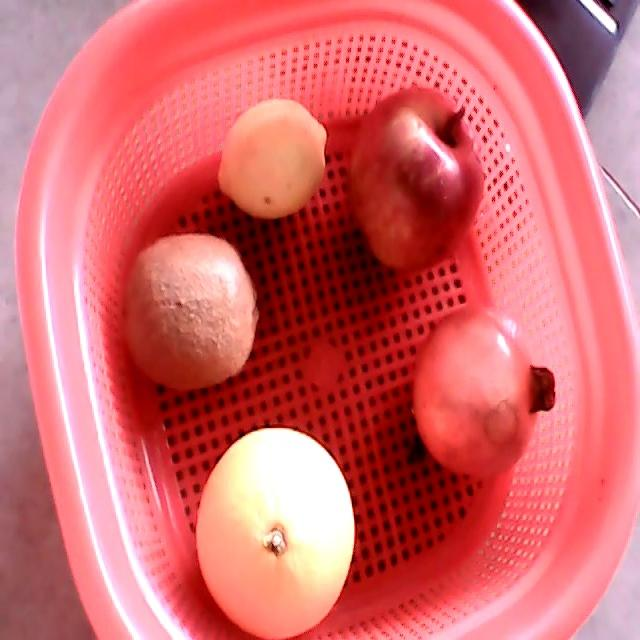apple: (348, 83, 486, 274)
kiwi: (119, 234, 260, 391)
lemon: (219, 98, 328, 218)
orange: (195, 428, 355, 639)
pomegranate: (411, 302, 557, 481)
